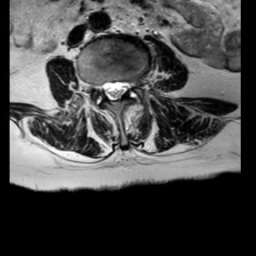CCS_normal: (110, 72, 118, 109)
LFS_stenosis: (128, 69, 137, 96)
LLS_normal: (118, 71, 128, 102)
RFS_normal: (93, 69, 102, 103)
RLS_normal: (102, 69, 110, 102)
